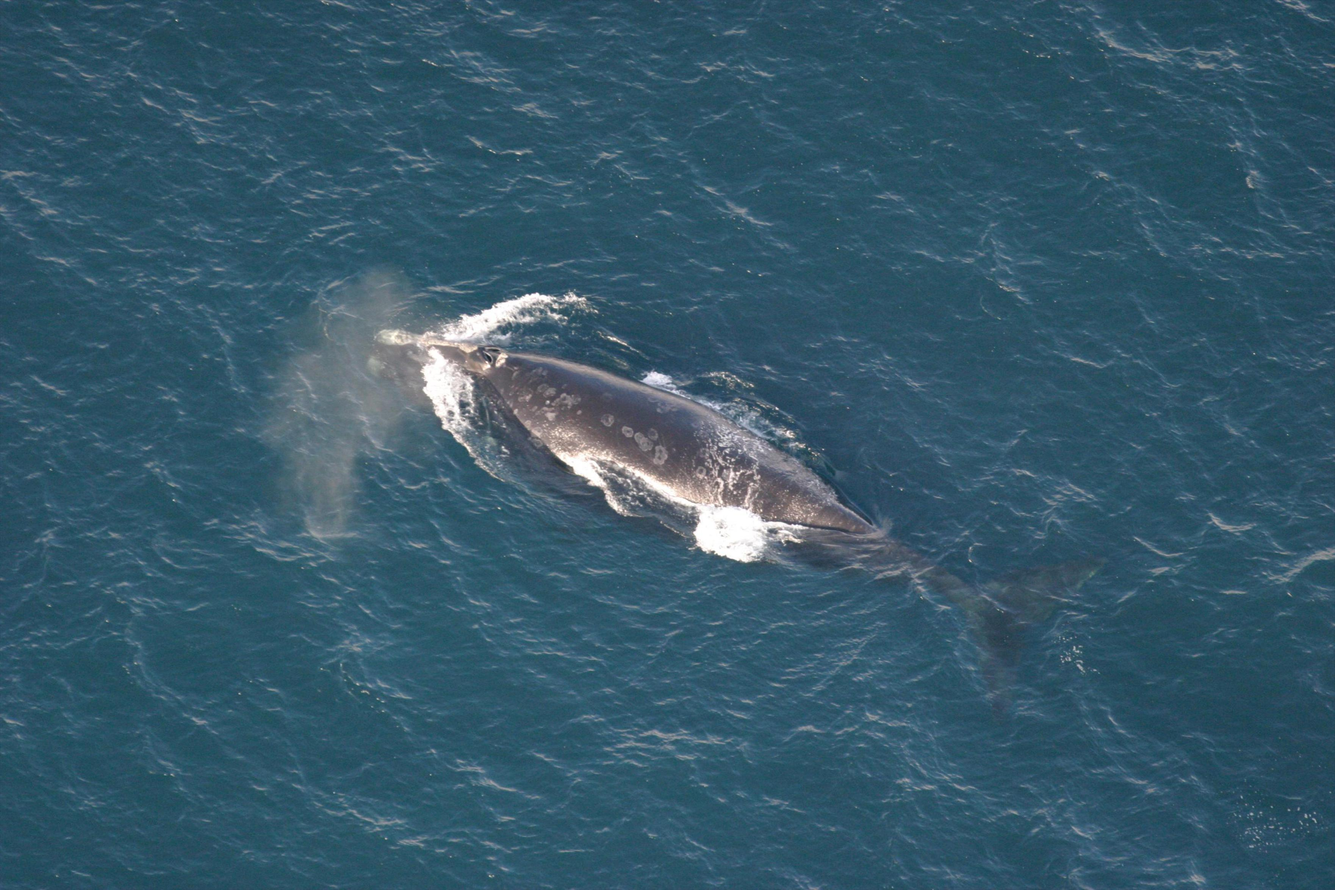whale: (344, 305, 1107, 735)
